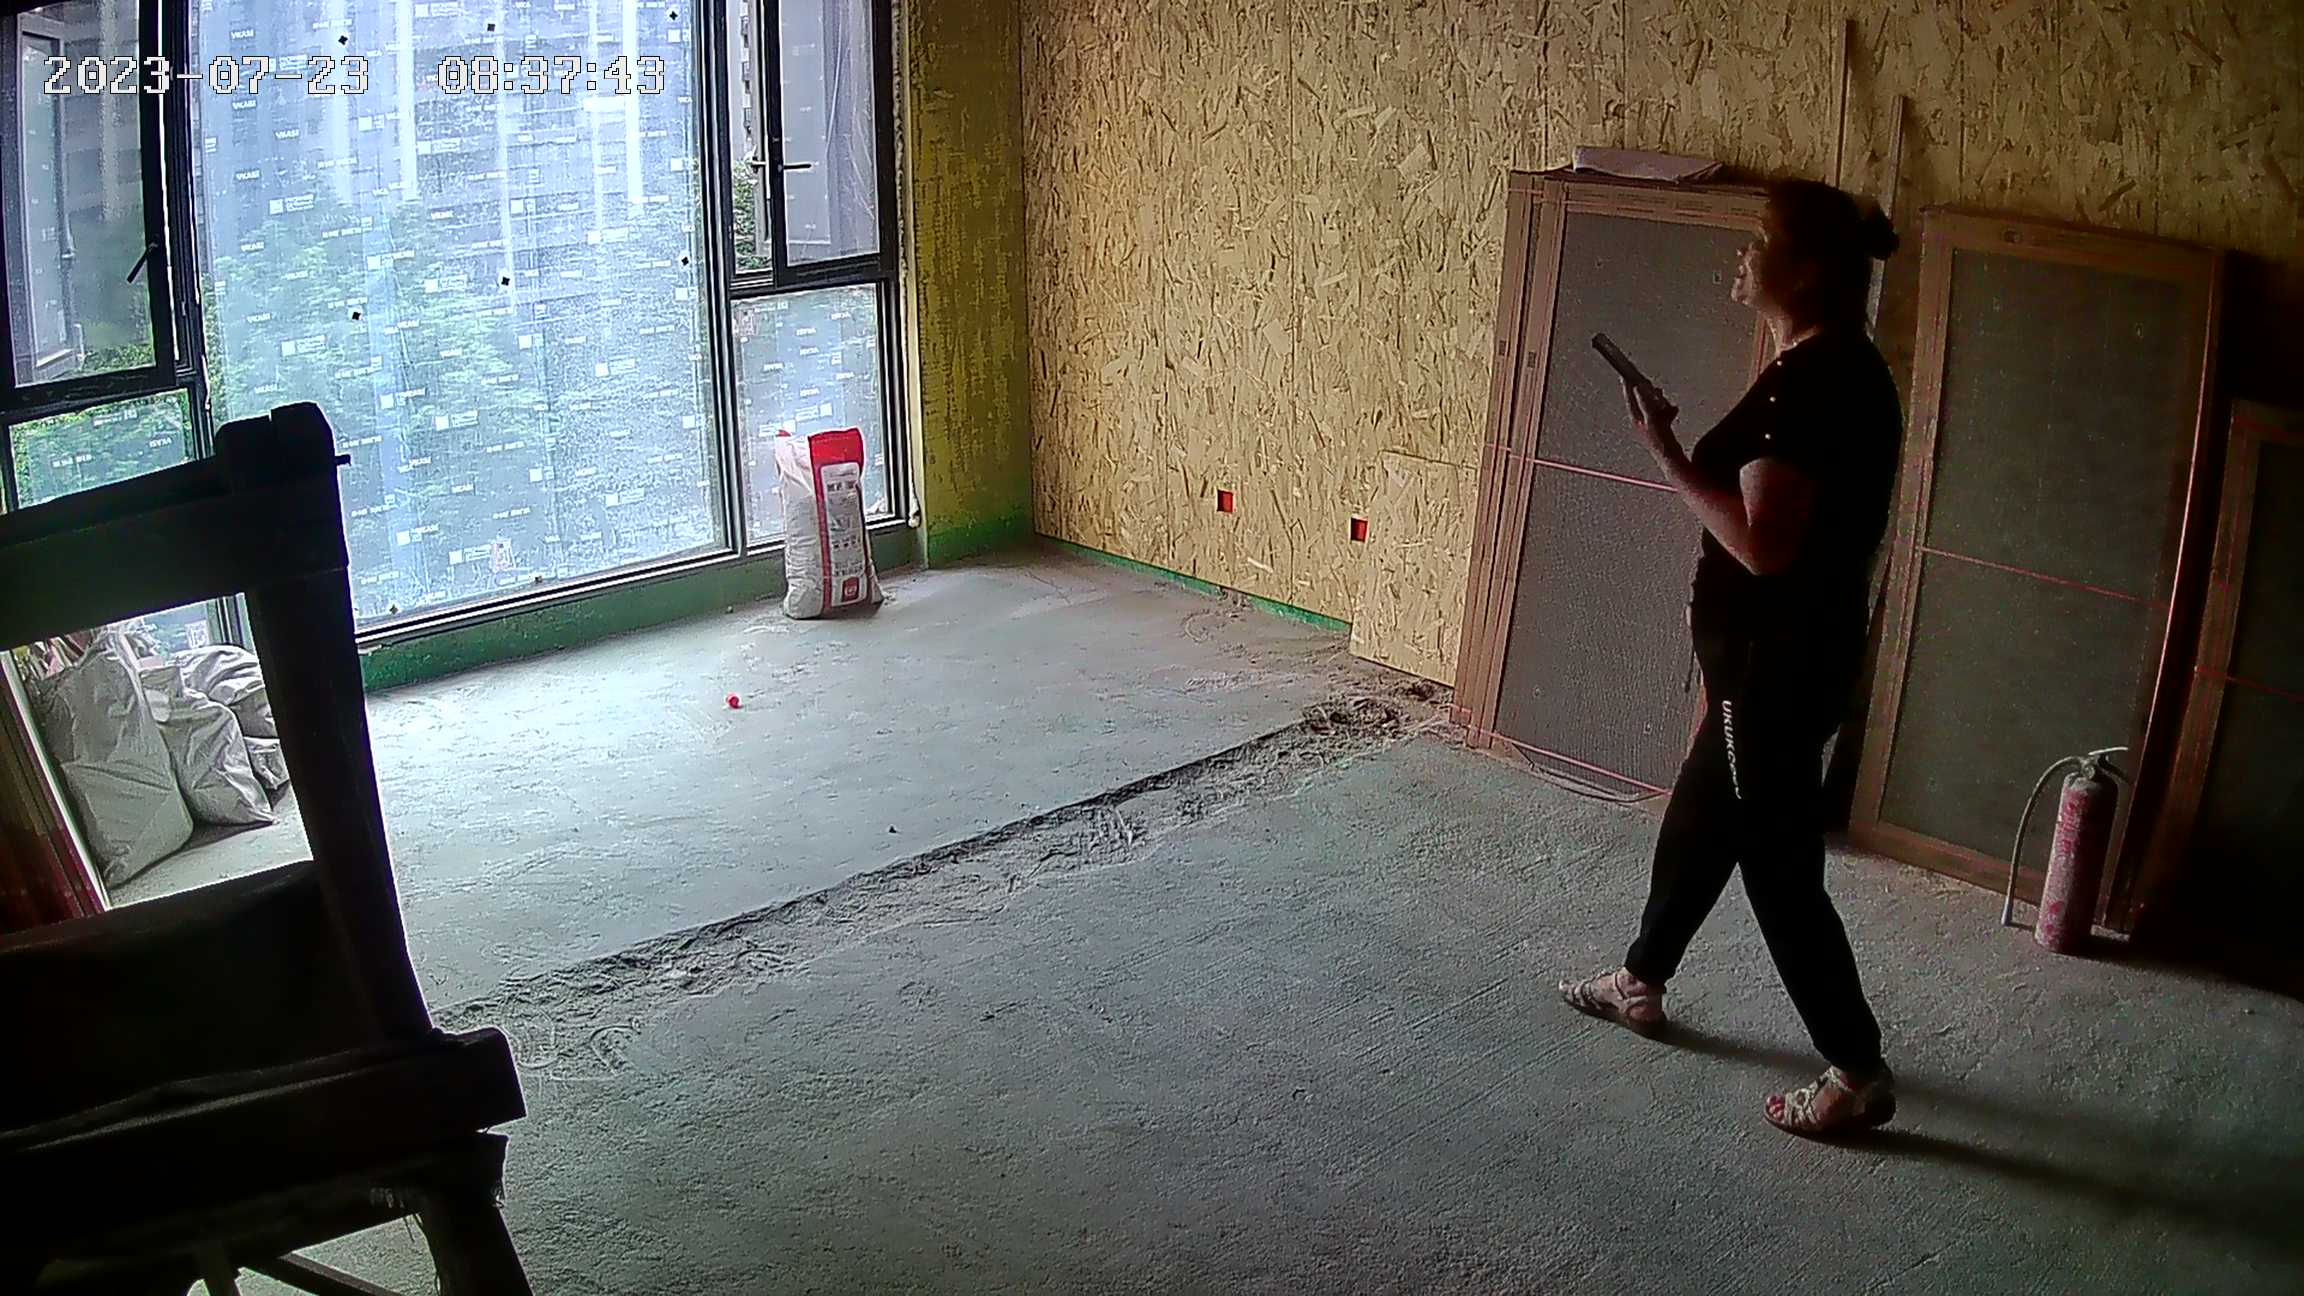people: (1593, 183, 1916, 1153)
window: (1, 11, 898, 561)
